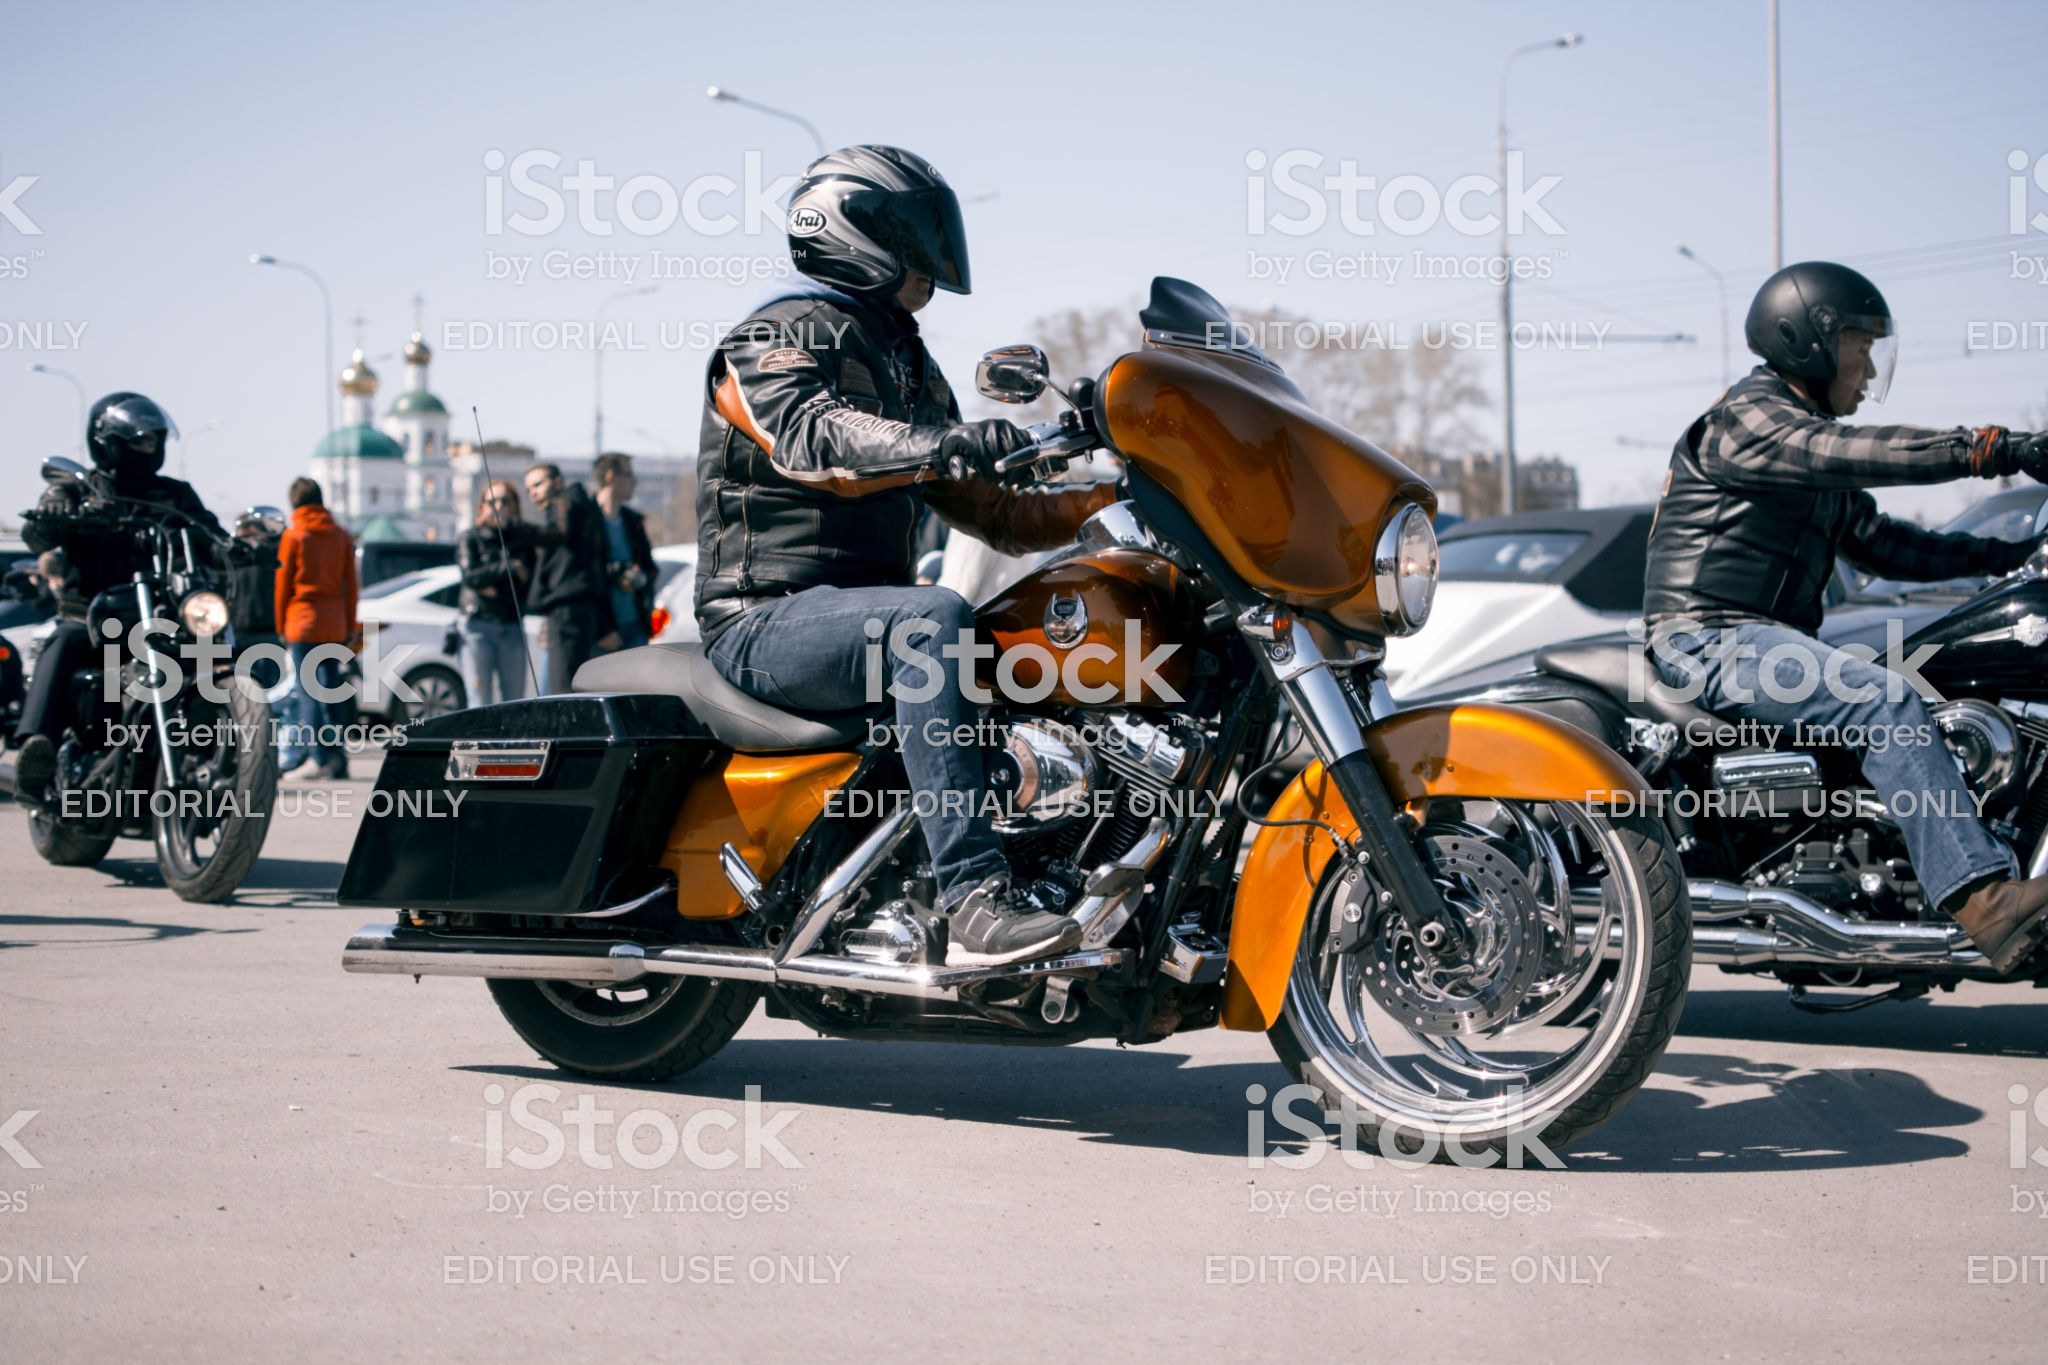helmet: (792, 145, 988, 318), (1753, 265, 1890, 411)
